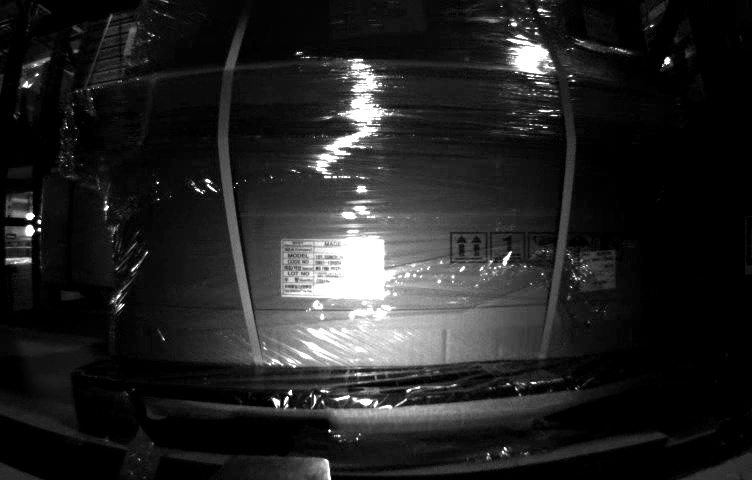True Barcode: (577, 250, 616, 290)
